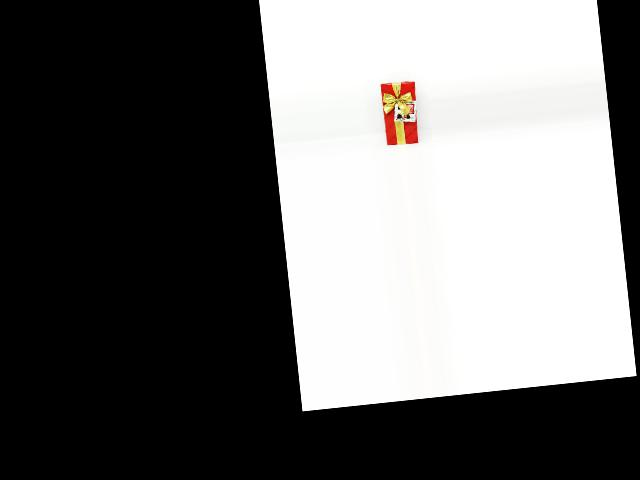chocolate: (377, 78, 420, 145)
